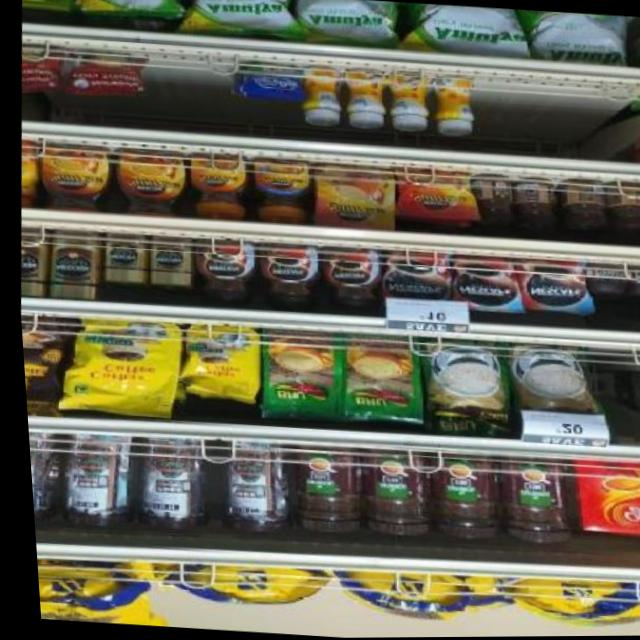Coffee: (310, 163, 397, 230), (33, 142, 113, 213), (109, 145, 186, 218), (185, 237, 257, 305), (315, 245, 383, 313), (250, 241, 317, 308), (392, 167, 471, 220), (246, 156, 311, 220), (182, 152, 248, 215), (43, 229, 98, 300), (513, 257, 584, 312), (379, 250, 451, 304), (445, 254, 516, 306), (13, 227, 47, 296), (99, 232, 143, 281), (146, 236, 188, 286), (15, 144, 36, 207), (586, 263, 622, 292), (628, 267, 640, 295)
